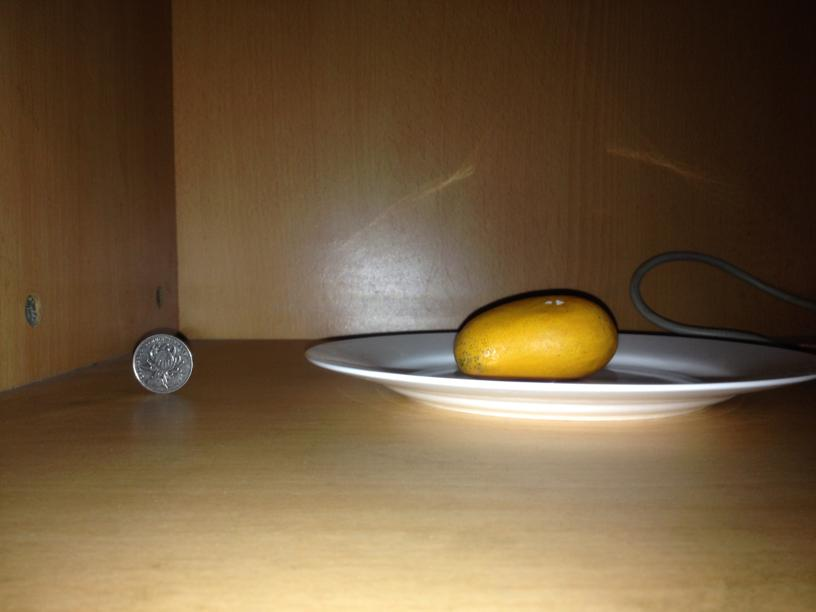coin: (130, 332, 195, 396)
mango: (450, 289, 618, 378)
